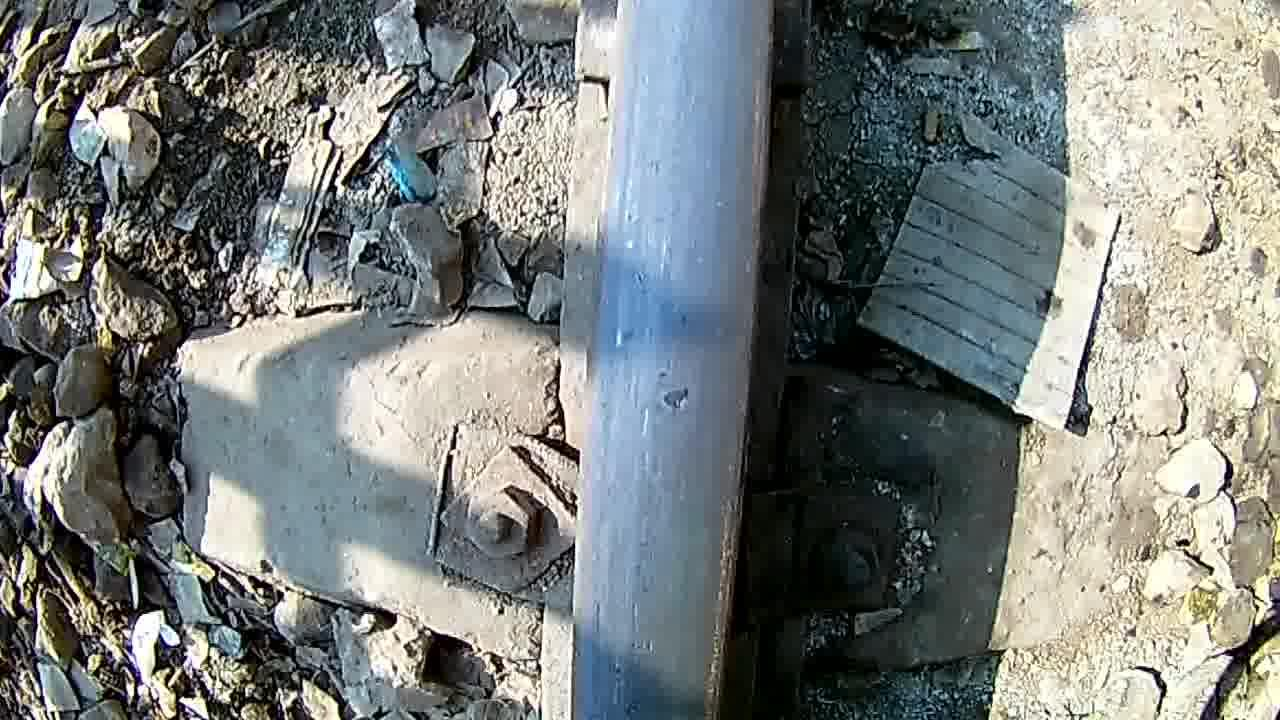crack: (609, 280, 737, 546)
